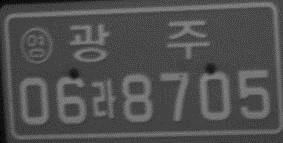0: (198, 70, 232, 122), (17, 76, 50, 125)
5: (236, 69, 271, 120)
6: (54, 75, 87, 124)
7: (158, 71, 190, 121)
8: (121, 74, 153, 123)
광주_D: (68, 19, 210, 62)
라: (90, 77, 115, 118)
영: (19, 26, 54, 65)
